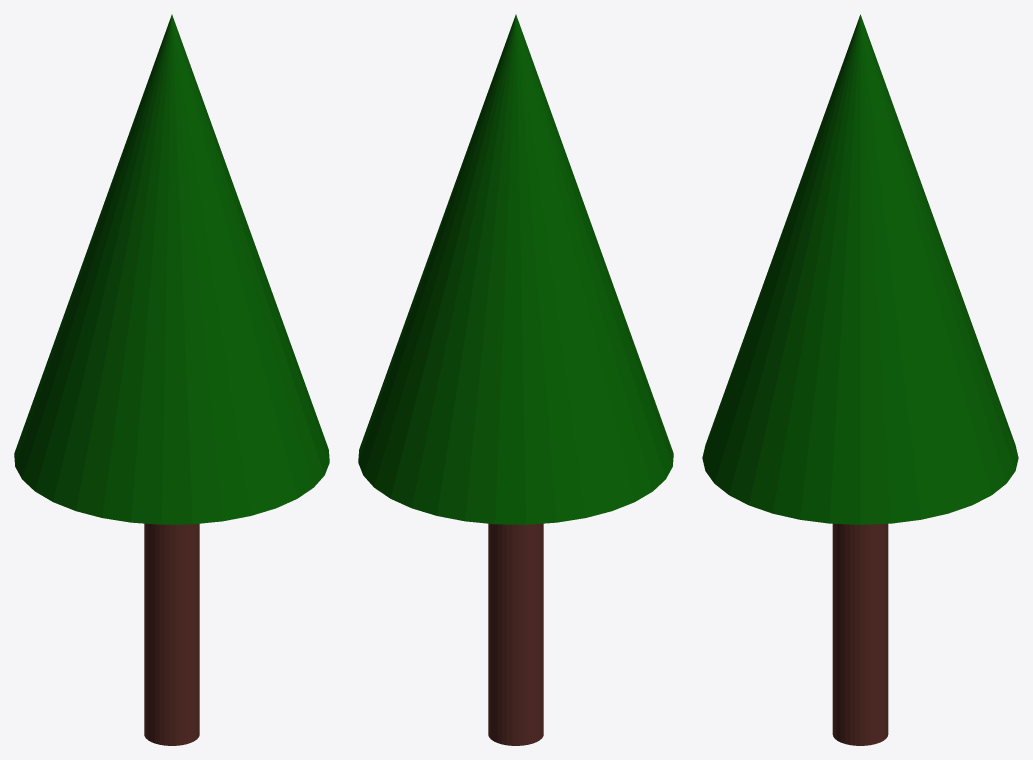
File: Tree.glb
3 renders of one model, left to right at view 1: azimuth 30°, elevation 25°; view 2: azimuth 150°, elevation 25°; view 3: azimuth 270°, elevation 25°, orthographic.
Visible parts, largest first — view 1: Cone, Cylinder; view 2: Cone, Cylinder; view 3: Cone, Cylinder.
Part boxes in pixels (x1,y1,x2,y2): Cone: (14,14,329,524); Cylinder: (144,523,199,745); Cone: (358,14,673,524); Cylinder: (488,523,543,745); Cone: (702,14,1018,524); Cylinder: (832,523,888,745).
Size of the model in its own units: 0.6327 by 1.59 by 0.6327.
